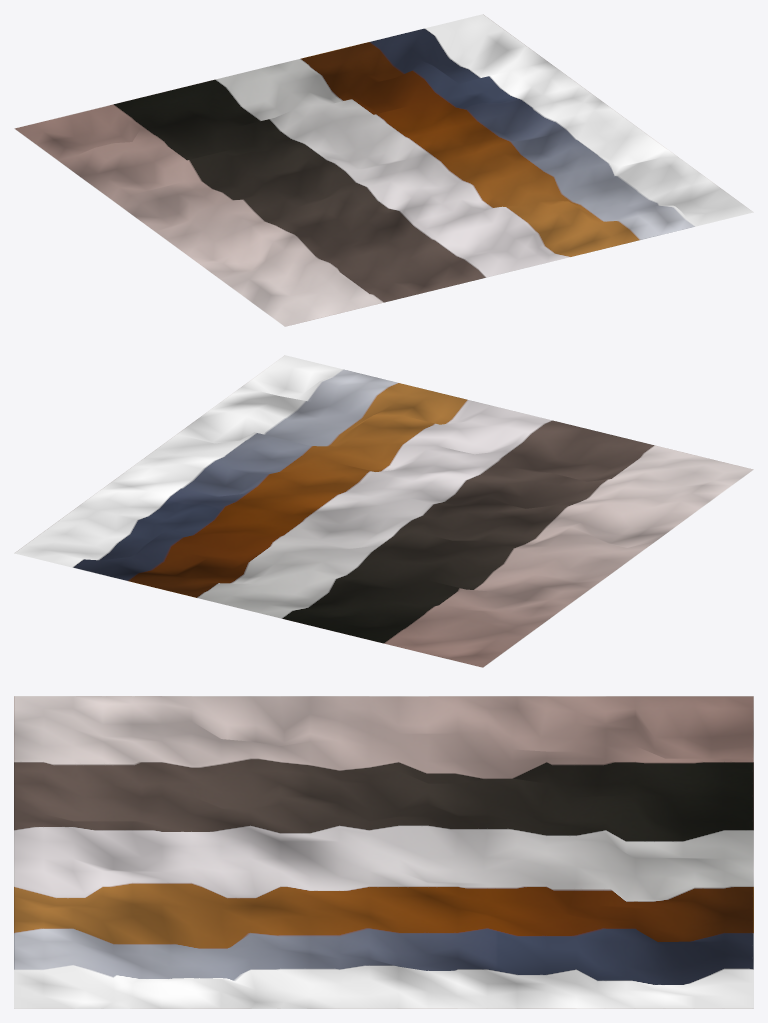
Rendered from Terrain_bumpy.fbx.
The picture shows the model from 3 angles, top to bottom: view 1: azimuth 30°, elevation 25°; view 2: azimuth 150°, elevation 25°; view 3: azimuth 270°, elevation 25°; orthographic projection. The views are drawn at different scales.
Parts seen in each view (by area): view 1: polySurface15; view 2: polySurface15; view 3: polySurface15.
Boxes of the visible parts, box(x1,y1,x2,y2) form: polySurface15: box(14, 14, 753, 326); polySurface15: box(14, 355, 753, 667); polySurface15: box(14, 696, 753, 1008).
Size of the model in its own units: 25 by 0.792 by 25.
